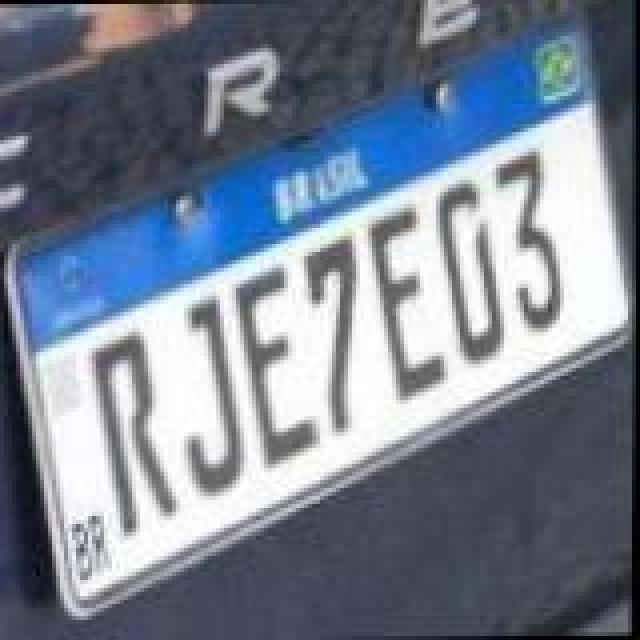3: (494, 148, 570, 332)
7: (302, 234, 362, 430)
D: (434, 178, 510, 362)
E: (232, 266, 320, 470), (364, 204, 452, 400)
J: (182, 296, 246, 492)
R: (88, 334, 184, 538)
